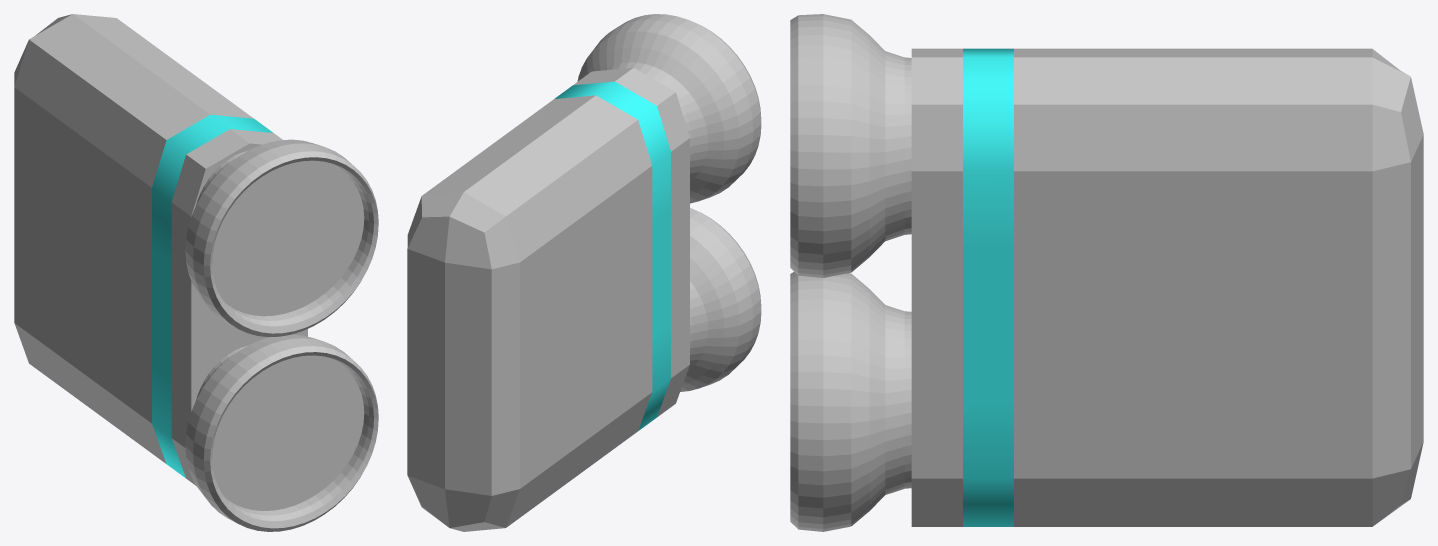
File: Light.fbx
3 renders of one model, left to right at view 1: azimuth 30°, elevation 25°; view 2: azimuth 150°, elevation 25°; view 3: azimuth 270°, elevation 25°, orthographic. The views are drawn at different scales.
Parts seen in each view (by area): view 1: Light; view 2: Light; view 3: Light.
Part boxes in pixels (x1=…): Light: x1=14, y1=14, x2=378, y2=531; Light: x1=407, y1=14, x2=761, y2=531; Light: x1=790, y1=14, x2=1423, y2=531.
Bounding box in the file's own units: 6.09 × 12.43 × 14.48.
